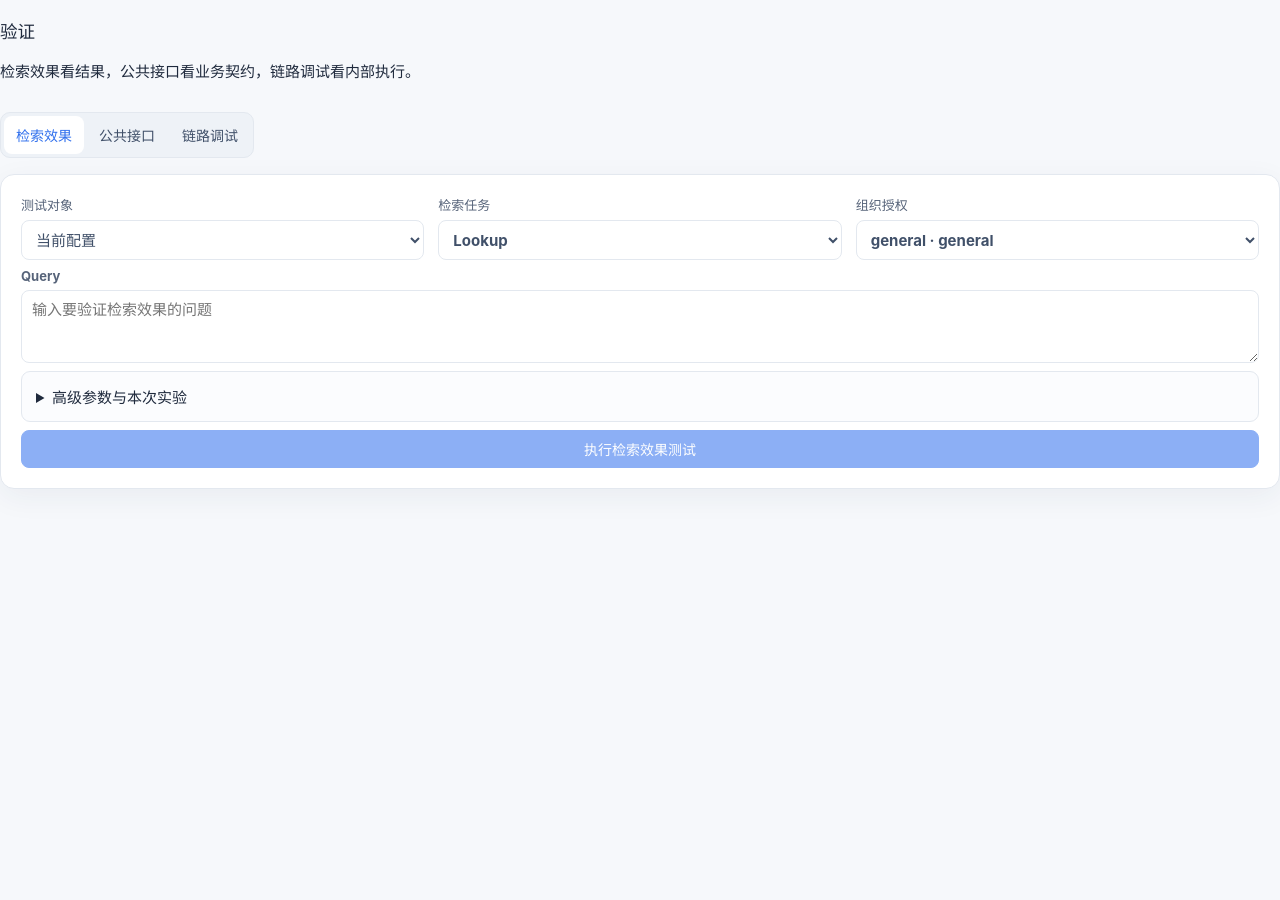
Test: three-level retrieval validation › tests the published public contract and exposes folded raw values
Click the button "公共接口". click: (127, 135)
box: [87,116,167,154]
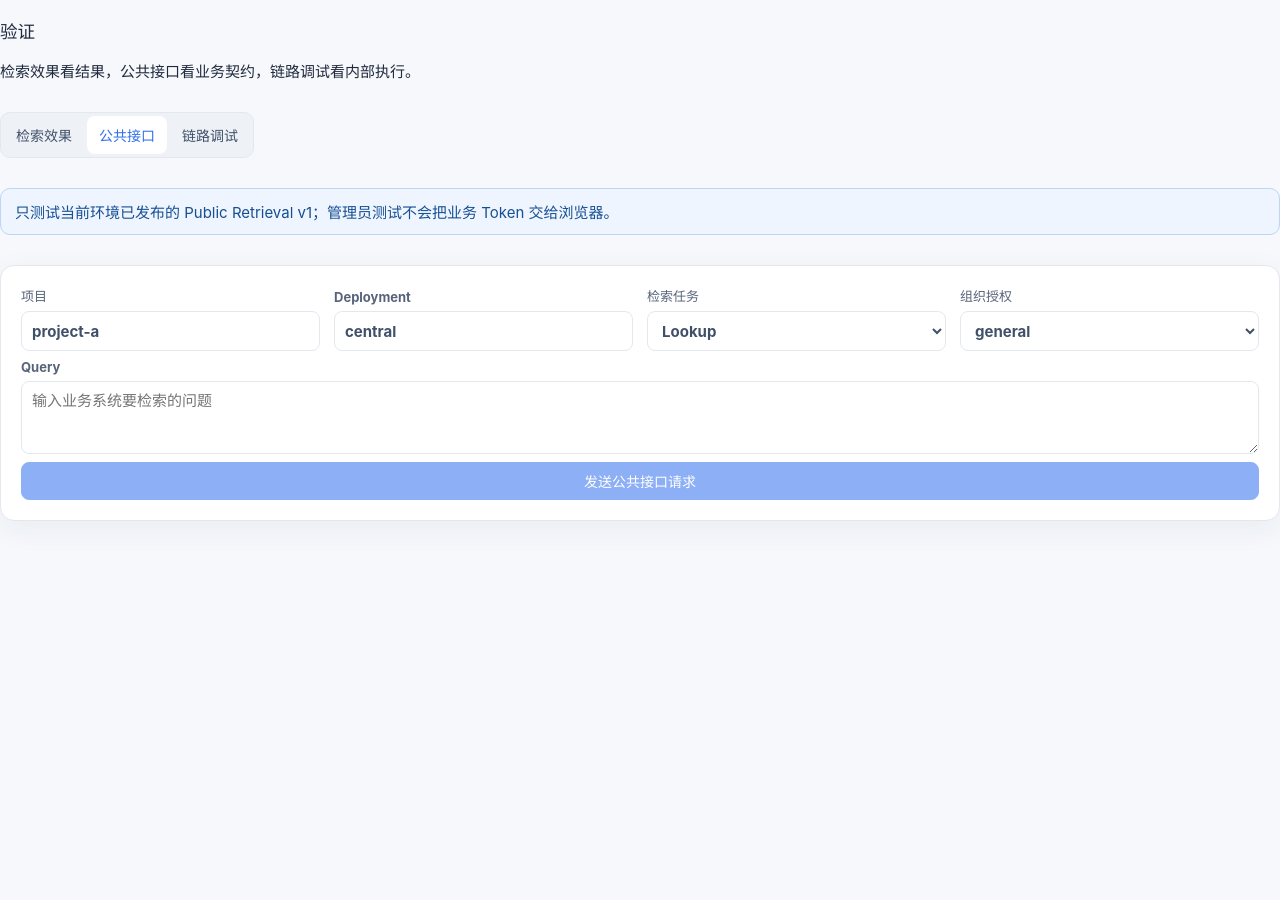
Type "question" into the text box labelled "Query". click: (640, 418)
box: [21,381,1259,454]
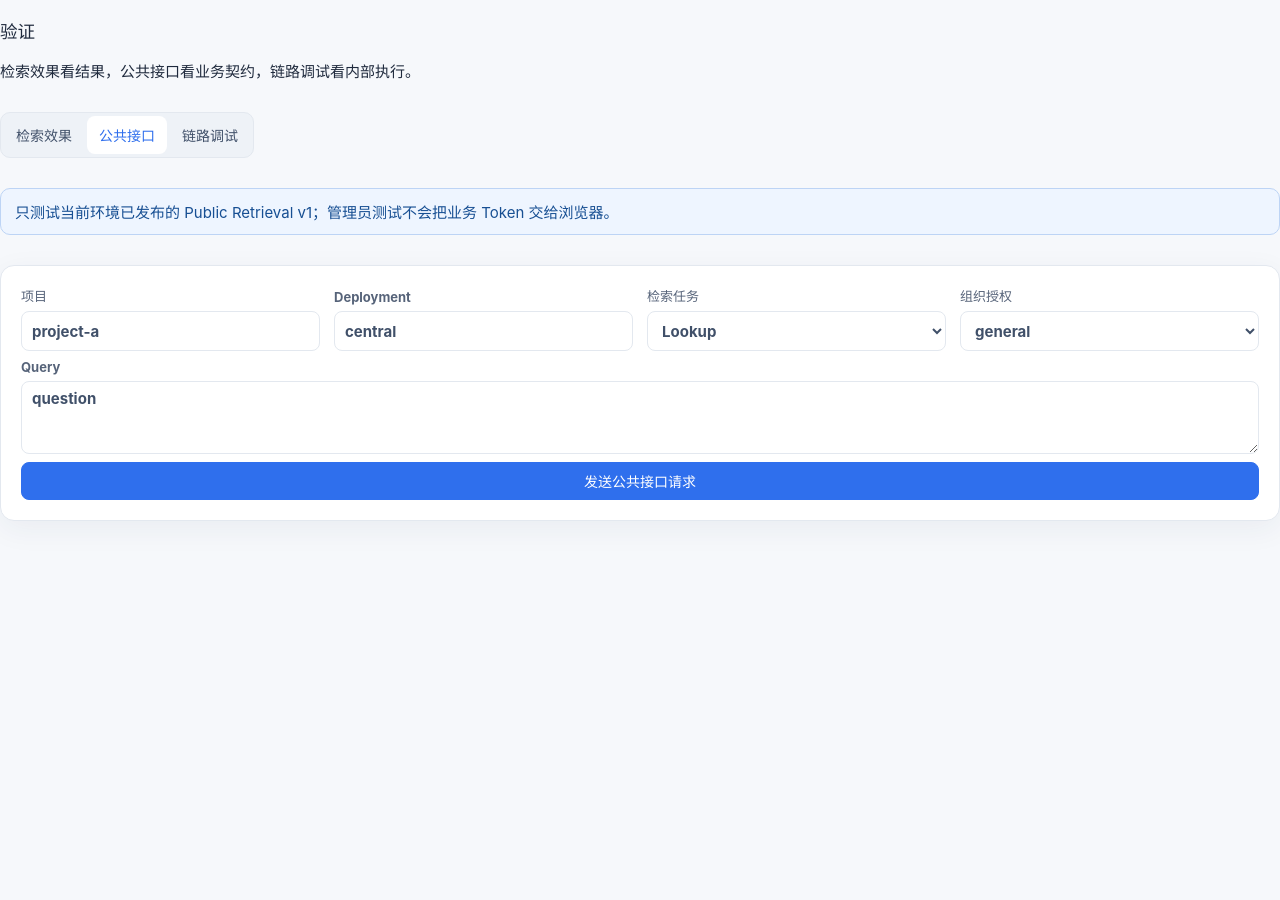
Submit the form, box [0,265,1279,521]
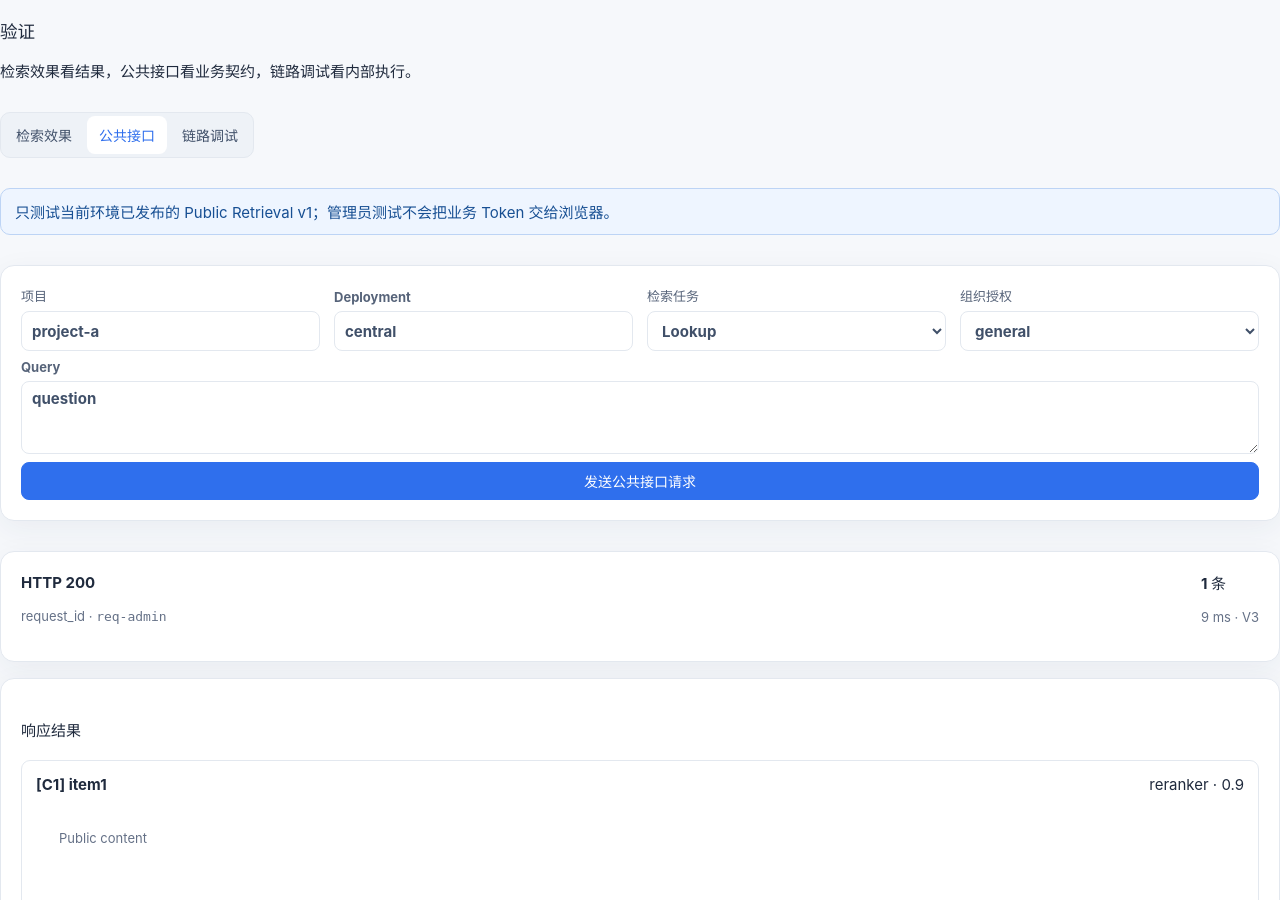
Expected: the text "HTTP 200" is shown, [21,573,95,592]
Expected: the text "Public content" is shown, [59,830,147,846]
